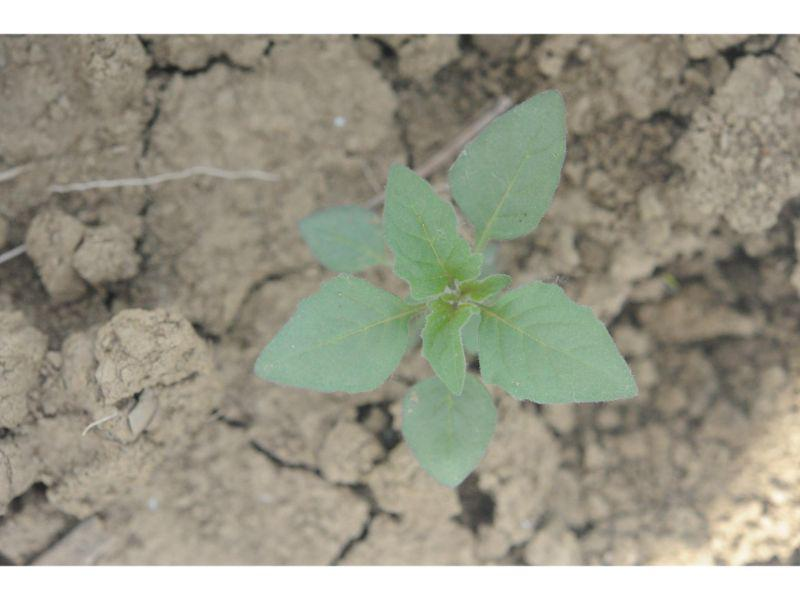nightshade: (256, 87, 638, 488)
